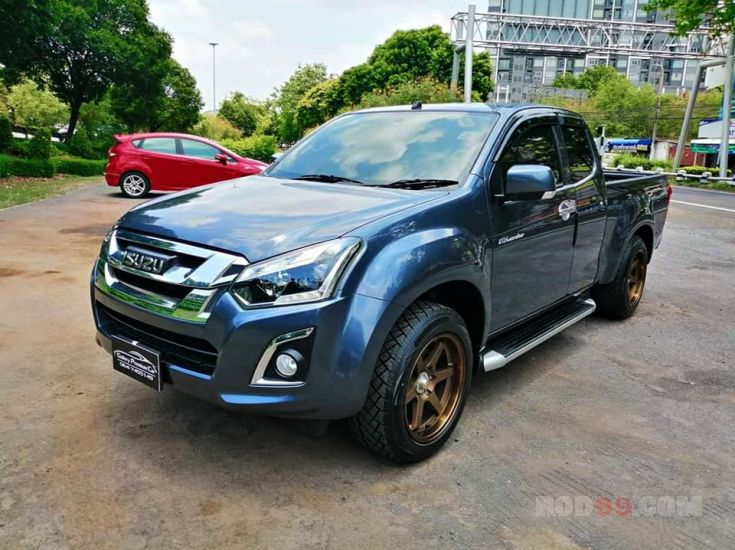pickup: (88, 98, 672, 475)
